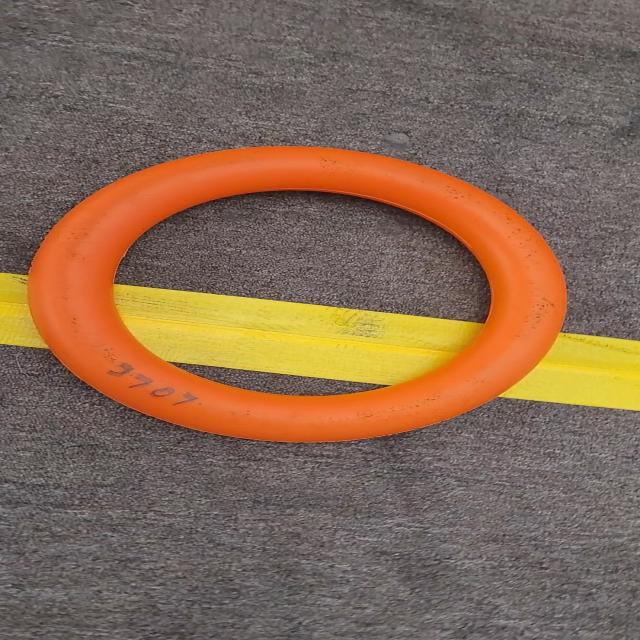note: (18, 133, 592, 444)
